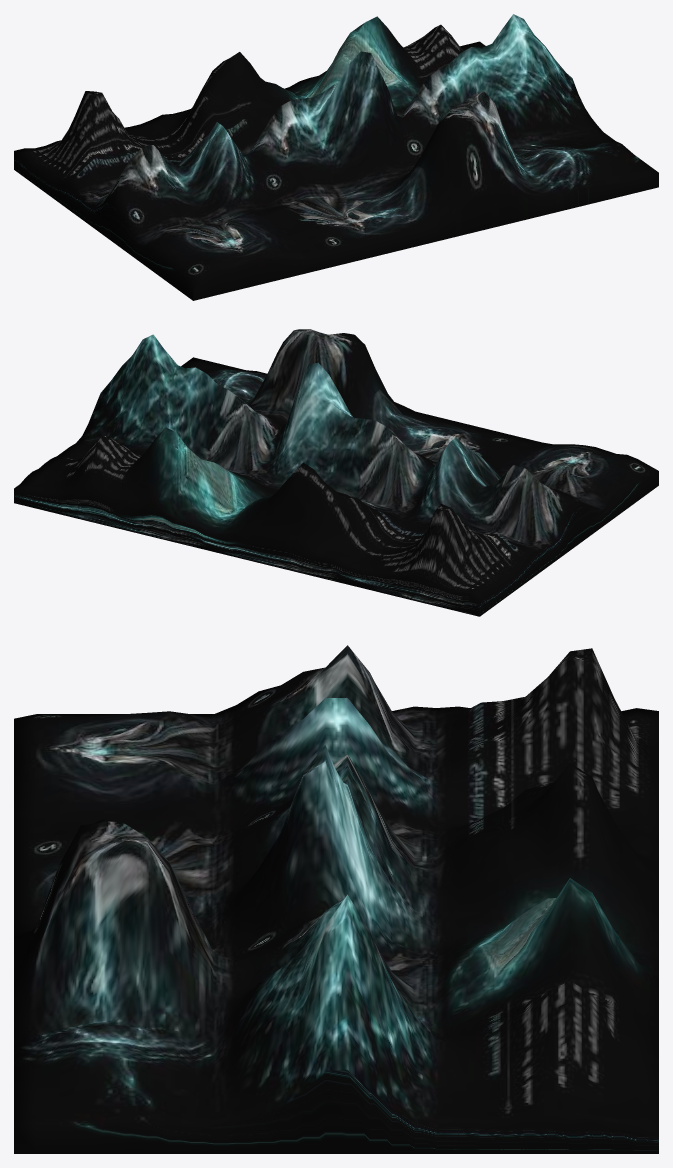
The model's file is CUL_08_Spiritual_Pressure.glb.
The picture shows the model from 3 angles, top to bottom: view 1: azimuth 30°, elevation 25°; view 2: azimuth 150°, elevation 25°; view 3: azimuth 270°, elevation 25°; orthographic projection. The views are drawn at different scales.
Parts seen in each view (by area): view 1: CUL_08_Spiritual_Pressure; view 2: CUL_08_Spiritual_Pressure; view 3: CUL_08_Spiritual_Pressure.
Boxes of the visible parts, x1,y1,x2,y2 form: CUL_08_Spiritual_Pressure: (14, 14, 658, 300); CUL_08_Spiritual_Pressure: (14, 329, 658, 616); CUL_08_Spiritual_Pressure: (14, 645, 658, 1153).
Bounding box in the file's own units: 2 × 0.51 × 1.33.
1 material, 1 textured.
